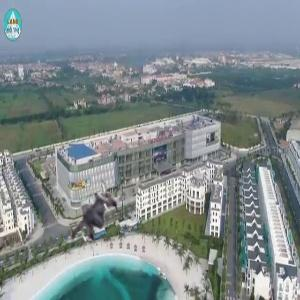drone: (48, 171, 133, 256)
